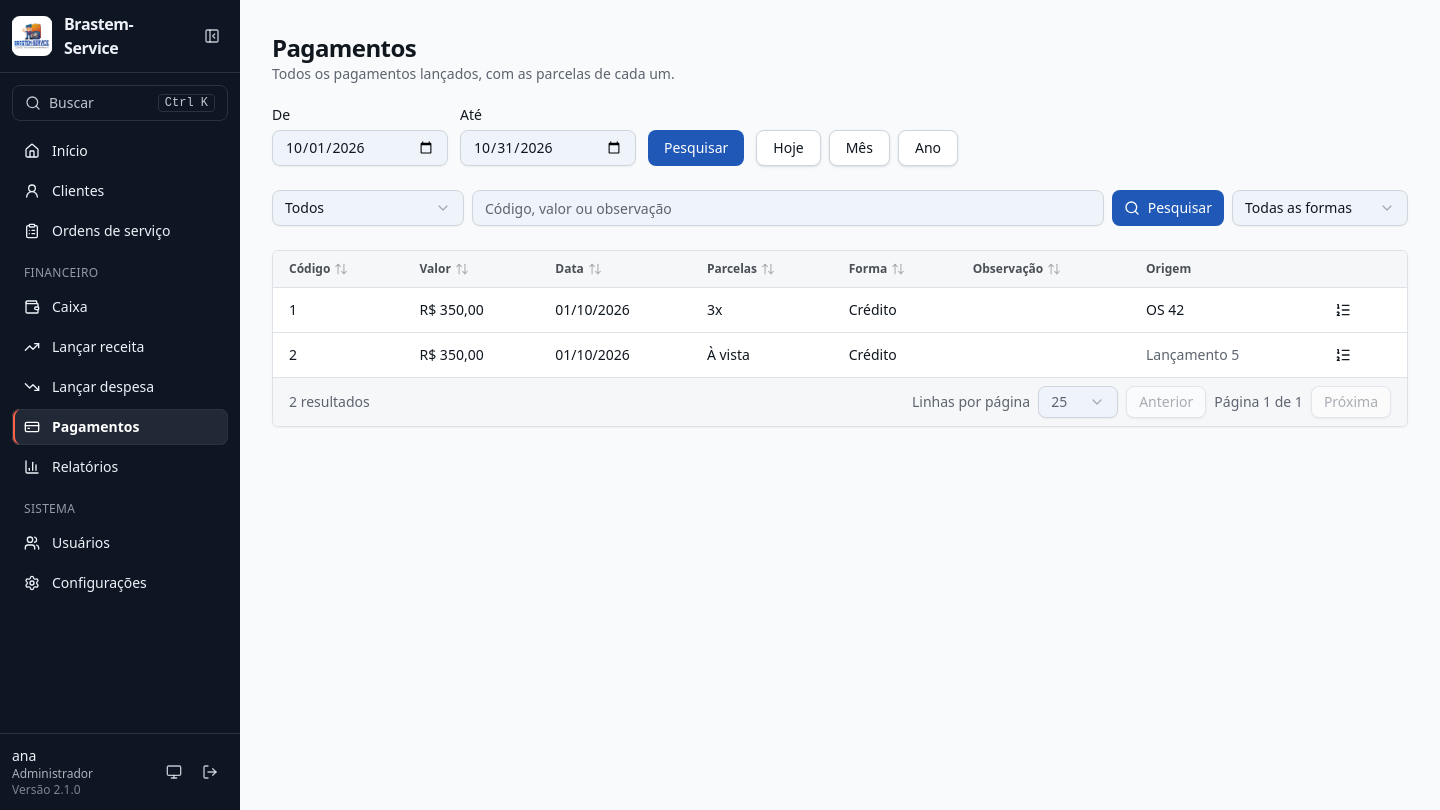
Scenario: Pagamentos › mostra a origem (OS ou lançamento) e as parcelas de cada pagamento
The width and height of the screenshot is (1440, 810).
Expected: the link "OS 42" is shown, [1146,300,1184,318]
Expected: the text "Lançamento 5" is shown, [1146,344,1239,364]
Step 1. Click the button named "Ver parcelas do pagamento 1" → (1342, 310), box [1326,294,1358,326]
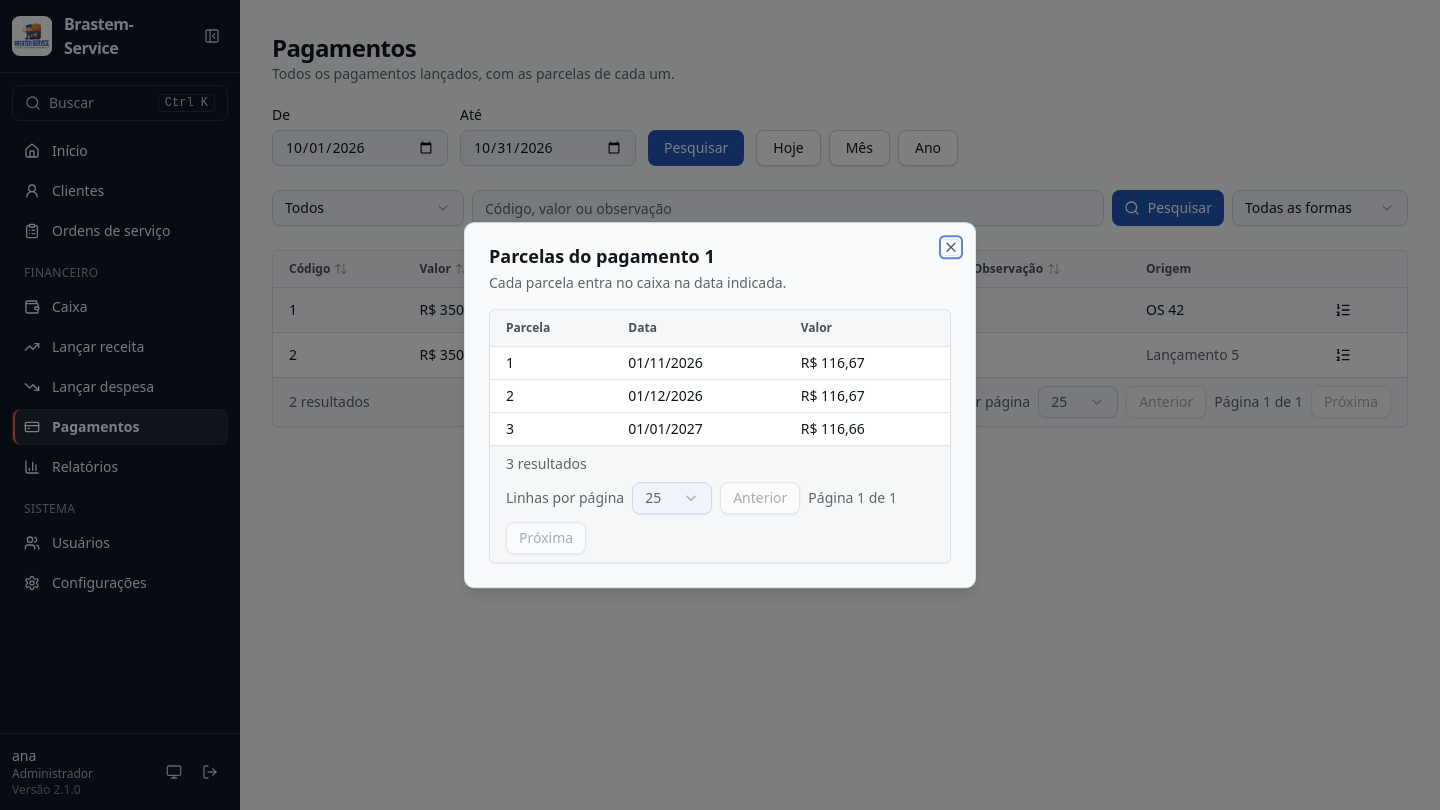
Expected: the text "01/01/2027" is shown, [616,412,789,445]
Expected: the text "R$ 116,67" is shown 2 times, [789,346,950,379]; [789,379,950,412]
